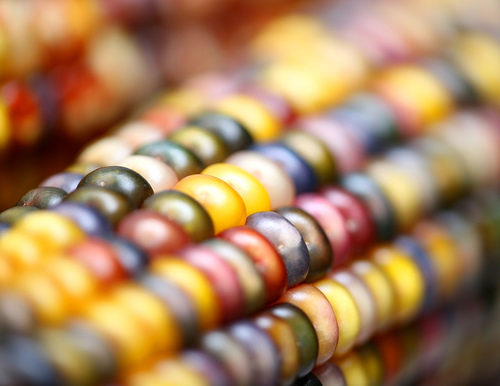corn: (0, 0, 498, 385)
